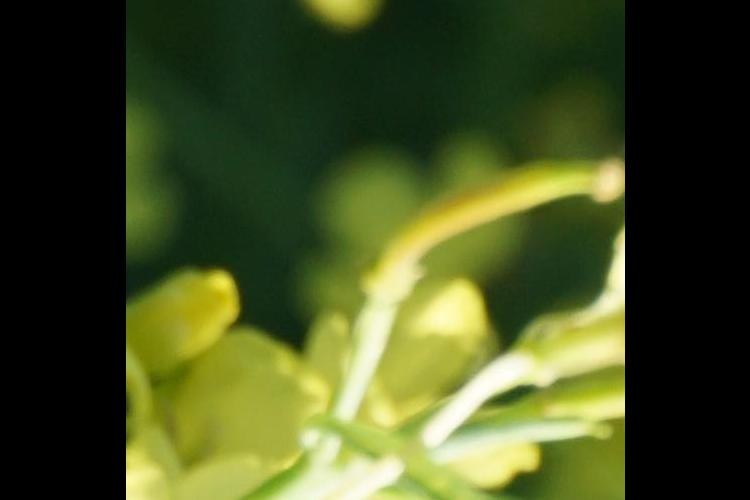pod: (357, 145, 614, 310)
